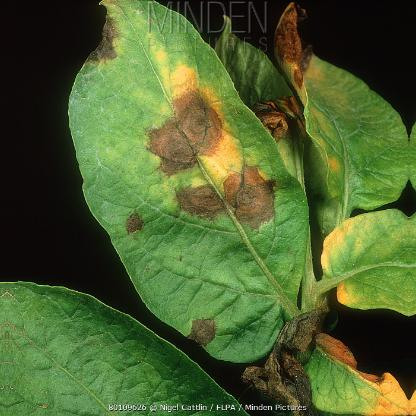Early-Blight: (140, 44, 282, 242), (236, 298, 348, 416), (271, 0, 326, 144), (63, 2, 135, 66), (170, 303, 228, 349)
